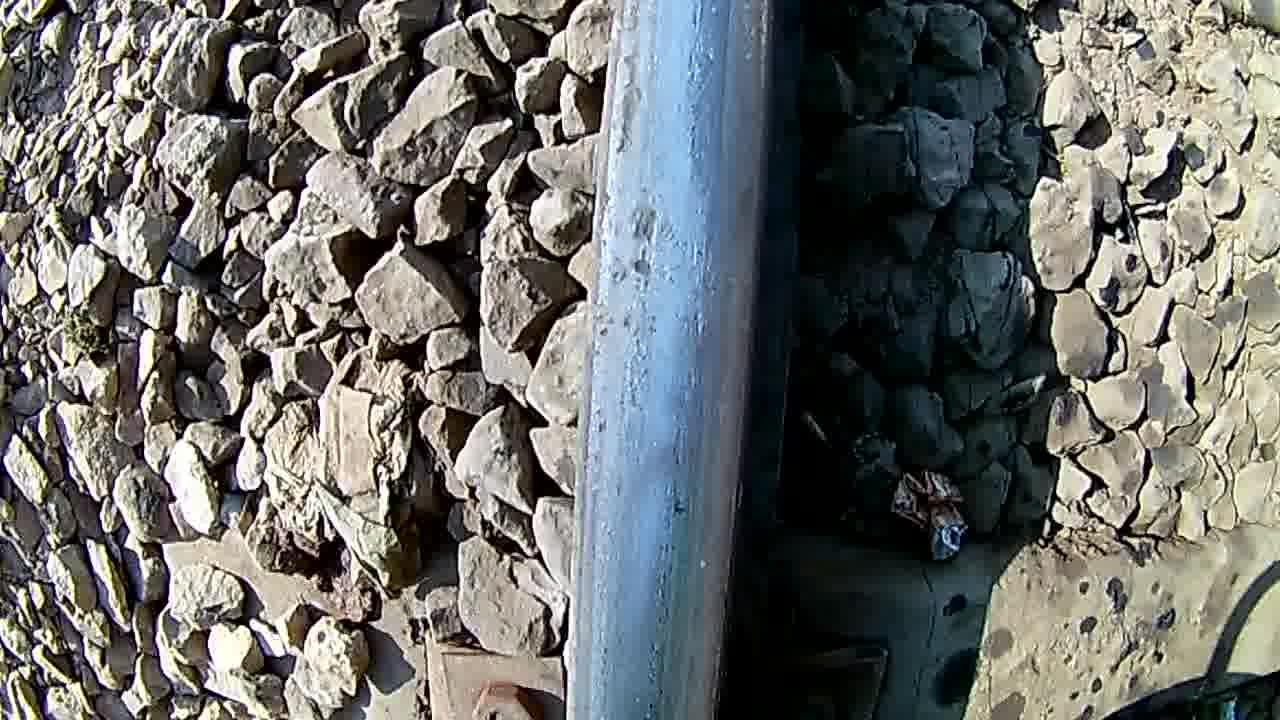crack: (588, 0, 768, 720)
